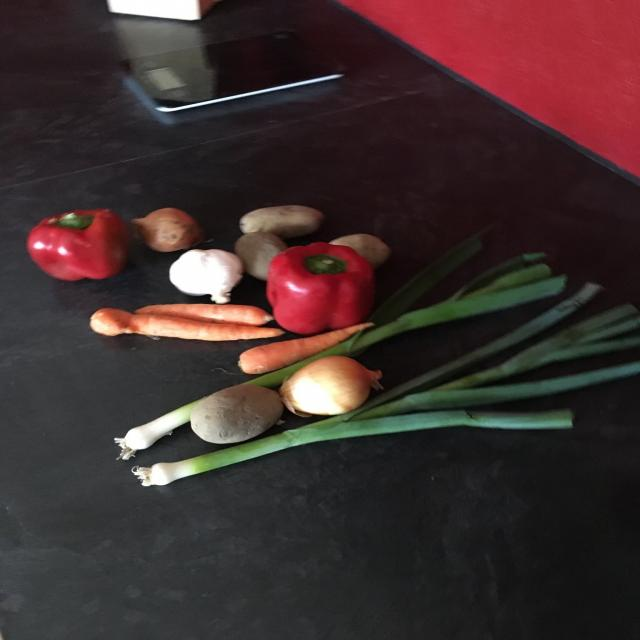Carrot: (238, 316, 376, 376), (84, 305, 282, 344)
Potato: (188, 379, 292, 449), (235, 199, 325, 241), (227, 228, 294, 282), (325, 228, 403, 270)
